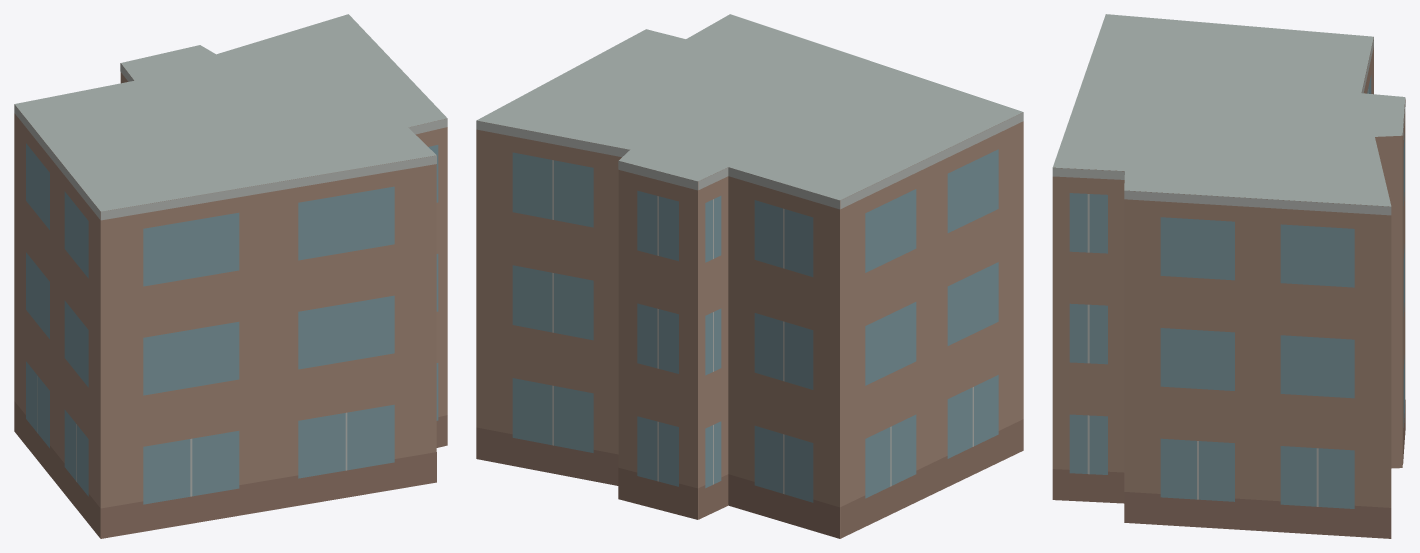
The model's file is survey-upis-32669396.glb.
3 views of the same model, side by side, from view 1: azimuth 30°, elevation 25°; view 2: azimuth 150°, elevation 25°; view 3: azimuth 270°, elevation 25° (orthographic). The views are drawn at different scales.
Visible parts, largest first — view 1: survey-upis-32669396.tmp; view 2: survey-upis-32669396.tmp; view 3: survey-upis-32669396.tmp.
Part boxes in pixels (x1,y1,x2,y2): survey-upis-32669396.tmp: (14,14,447,538); survey-upis-32669396.tmp: (476,14,1023,538); survey-upis-32669396.tmp: (1052,14,1405,538).
Bounding box in the file's own units: 11.38 × 9.15 × 8.81.
